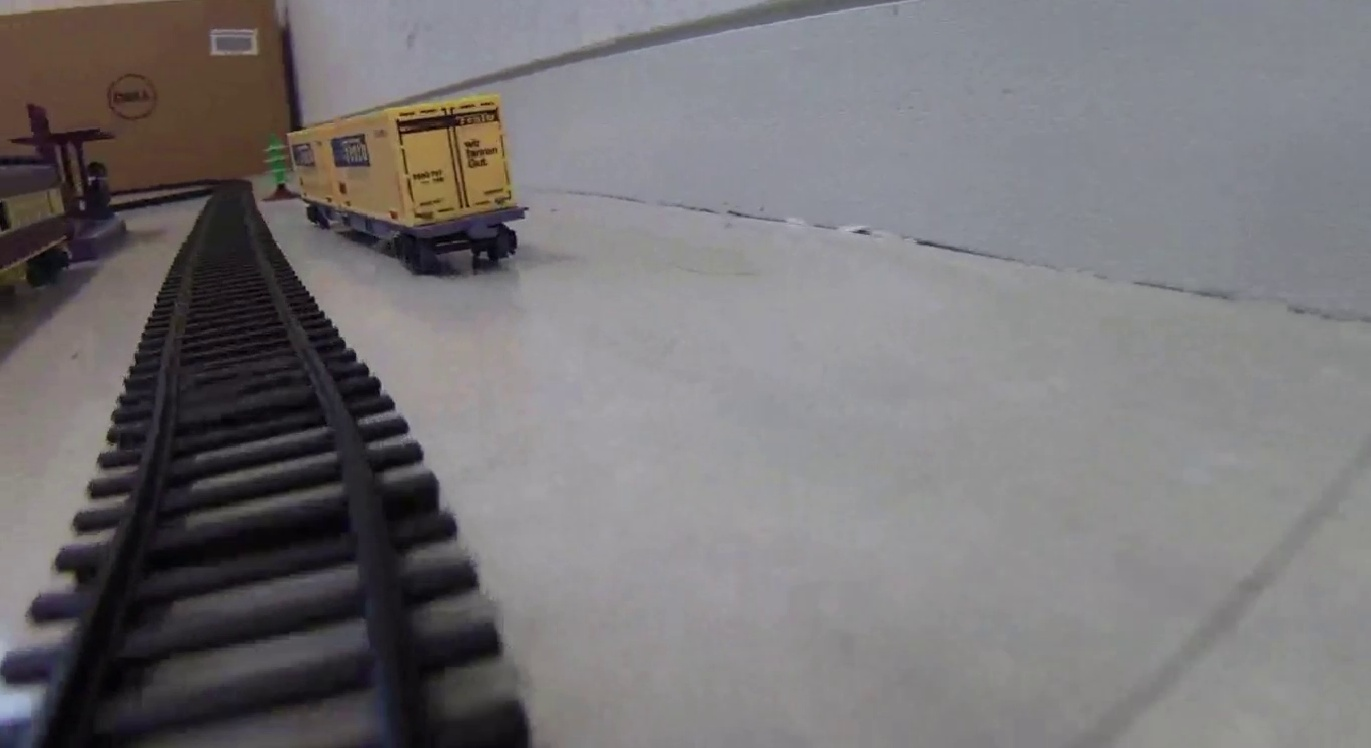tree: (257, 132, 291, 203)
